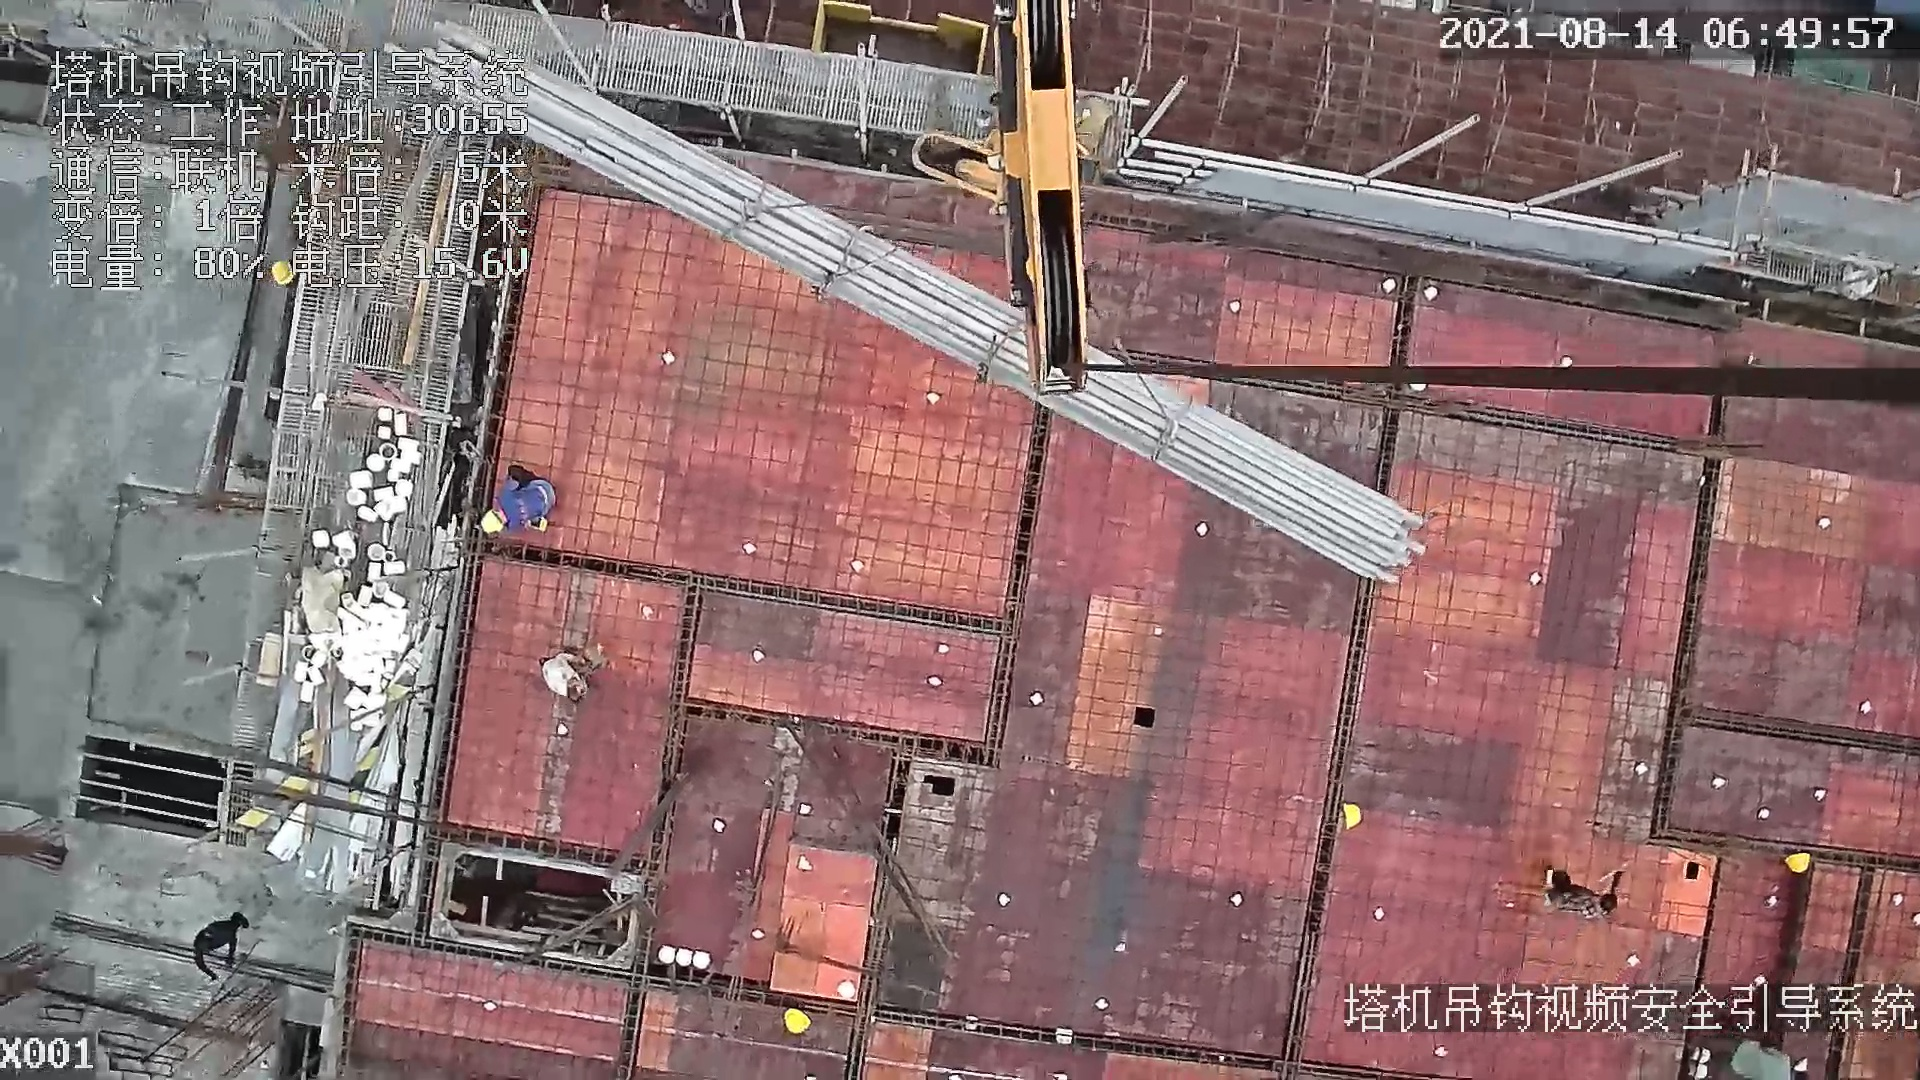helmet: (768, 1007, 827, 1045), (1781, 845, 1822, 885), (1335, 791, 1365, 838), (481, 505, 506, 537), (272, 258, 297, 288)
hook: (912, 1, 1094, 399)
person: (479, 459, 555, 542), (185, 909, 254, 985), (532, 650, 604, 706), (275, 256, 300, 307)
